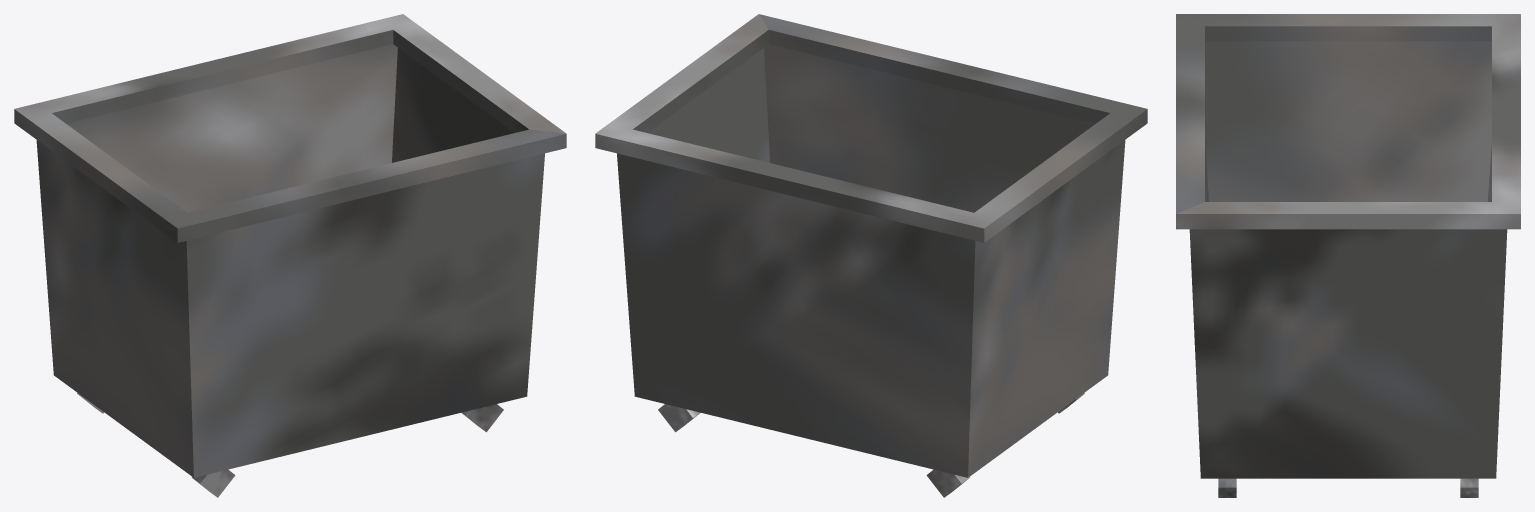
File: cart.fbx
3 views of the same model, side by side, from view 1: azimuth 30°, elevation 25°; view 2: azimuth 150°, elevation 25°; view 3: azimuth 270°, elevation 25° (orthographic). The views are drawn at different scales.
Parts seen in each view (by area): view 1: Table, Cube; view 2: Table, Cube; view 3: Table, Cube.
Part boxes in pixels (box(x1,y1,x2,y2)): Table: box(14, 14, 566, 477); Cube: box(77, 393, 503, 497); Table: box(595, 14, 1147, 477); Cube: box(658, 393, 1084, 497); Table: box(1176, 14, 1520, 478); Cube: box(1218, 478, 1478, 497).
Size of the model in its own units: 78.22 by 57.39 by 56.96.
